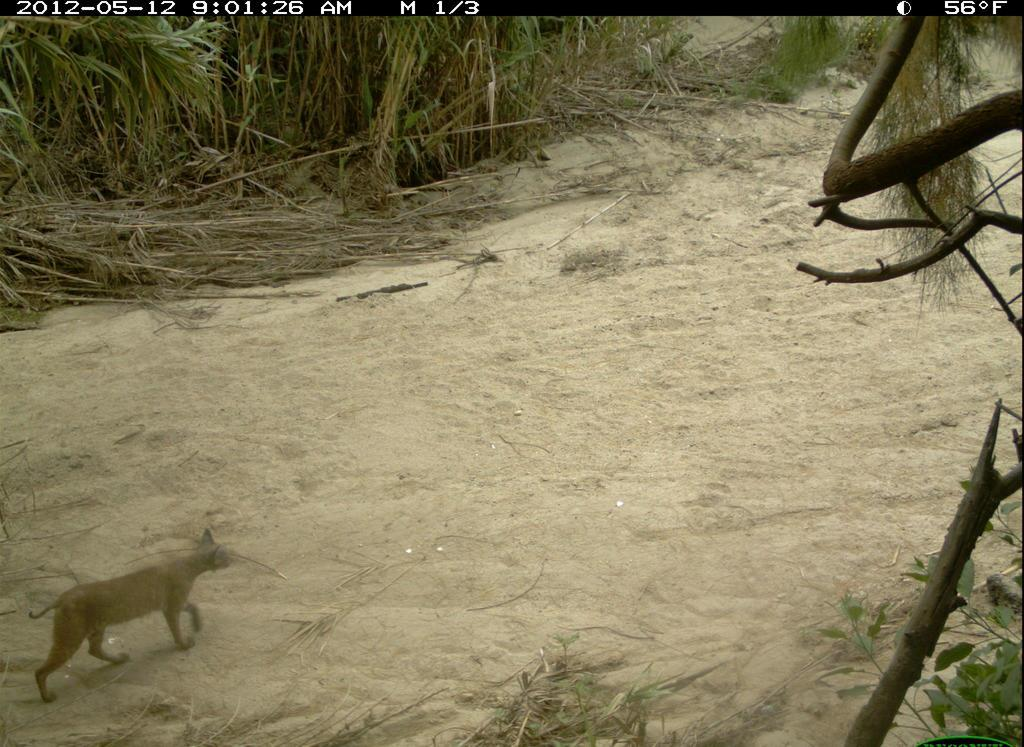bobcat: (22, 525, 241, 707)
